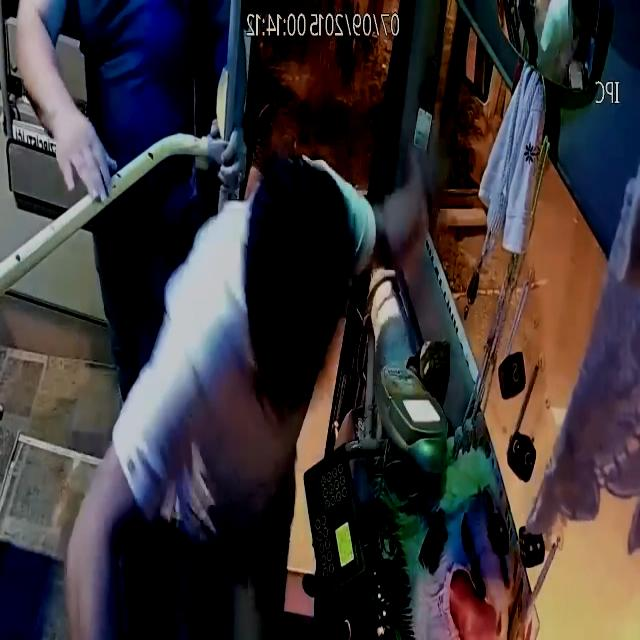fight: (62, 127, 448, 640)
